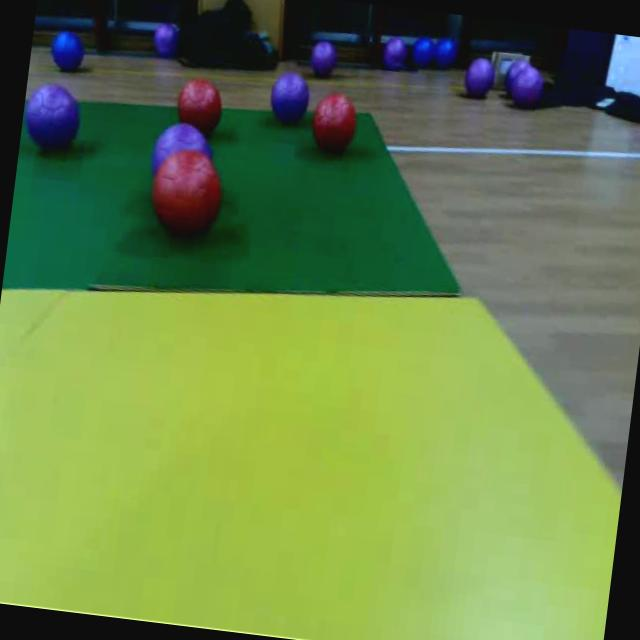blue_ball: (20, 75, 86, 164), (266, 68, 316, 128), (46, 26, 88, 75), (148, 15, 184, 62), (411, 35, 439, 77)
